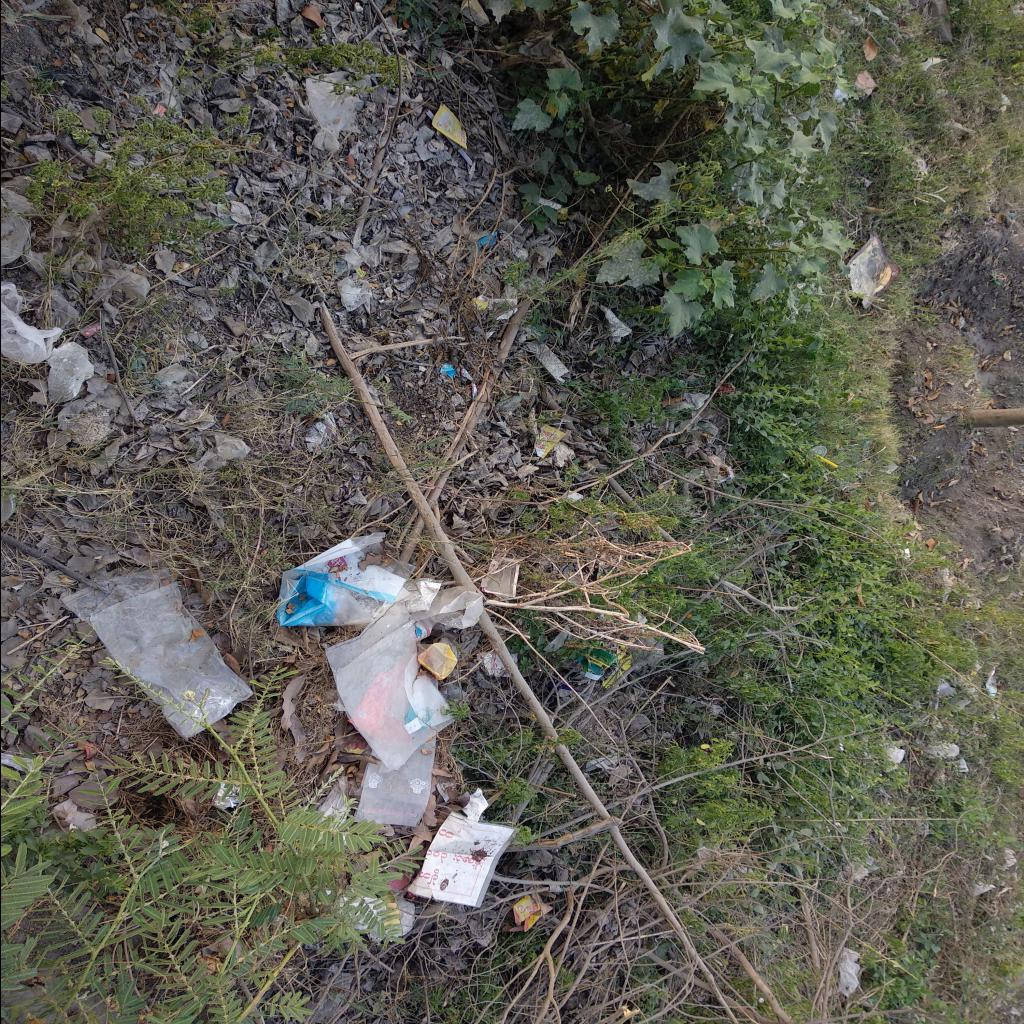Normal paper: (405, 812, 519, 908)
Other plastic: (430, 102, 466, 146), (514, 894, 554, 932), (304, 412, 341, 452), (533, 423, 565, 459), (460, 368, 478, 400), (469, 298, 487, 312), (440, 363, 454, 379)
Other plastic cup: (480, 557, 518, 597)
Plastic film: (60, 567, 252, 740), (324, 600, 454, 774), (276, 532, 414, 626), (354, 735, 436, 826), (2, 281, 62, 365), (344, 896, 412, 942), (408, 588, 482, 630), (306, 72, 356, 134), (398, 578, 442, 612), (313, 780, 345, 824), (419, 642, 455, 680), (838, 947, 860, 997), (416, 617, 434, 644)
Plastic lid: (807, 446, 826, 458)
Plastic straw: (424, 108, 472, 165), (814, 454, 838, 468)
Styrofoam piece: (65, 402, 111, 450), (526, 340, 568, 378), (600, 304, 630, 342), (476, 294, 516, 320), (474, 651, 508, 677)
Unlabeled litter: (844, 232, 899, 308), (461, 786, 489, 822), (211, 784, 239, 809), (491, 650, 519, 669), (580, 661, 604, 680), (80, 321, 100, 338), (474, 231, 496, 245)
